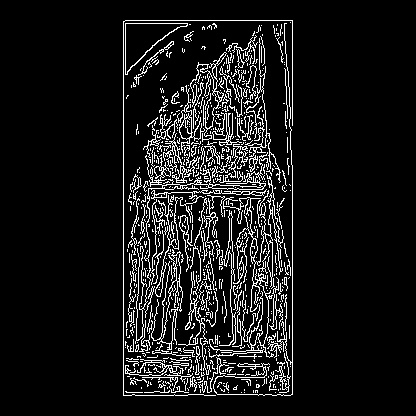buddha-horse-riding: (40, 148, 206, 270)
